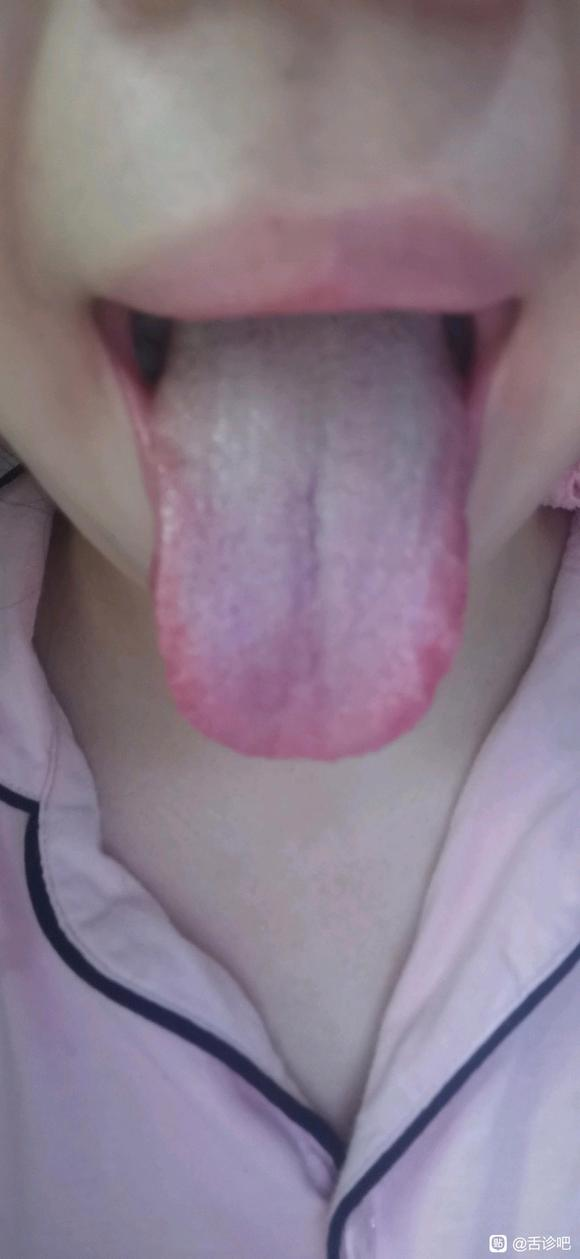baitaishe: (146, 308, 470, 761)
chihenshe: (419, 507, 469, 709)
liewenshe: (293, 456, 326, 611)
